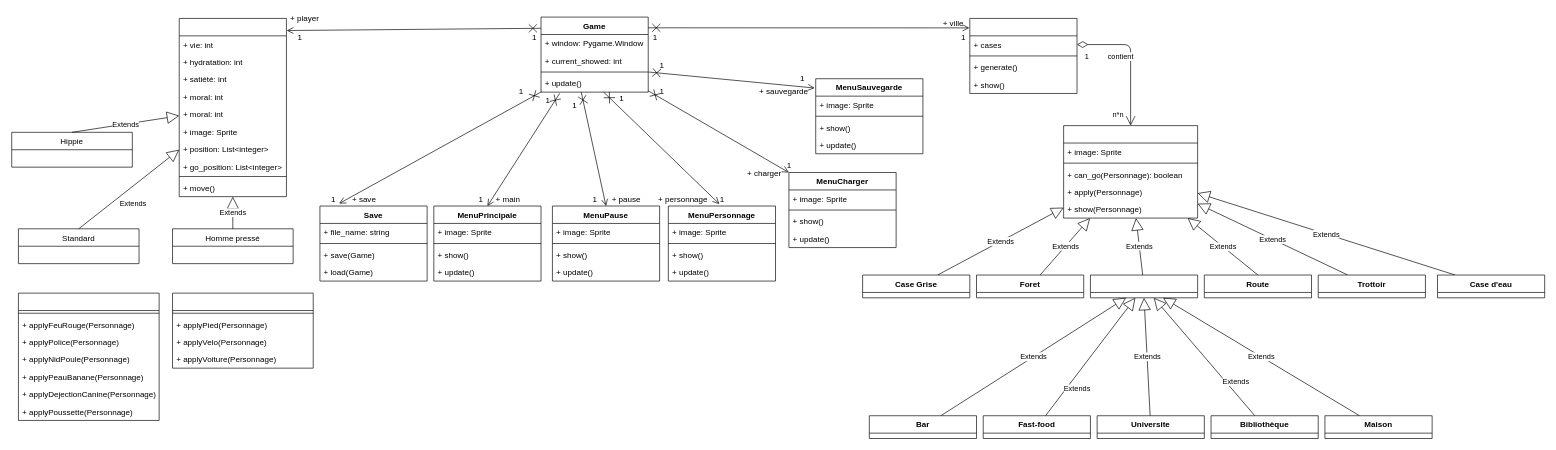
This 1556x450 diagram has some shape labels left out. The shapes that lost their labels are listed below. From the top down, each one's box as (x1, y1, x2, y2) in pixels, then its label:
(969, 18, 1077, 93): Ville
(179, 18, 286, 197): Personnage
(1063, 125, 1198, 218): Case
(1090, 274, 1198, 298): Batiment
(172, 292, 313, 368): Déplacement {static}
(18, 292, 159, 420): Piège {static}
